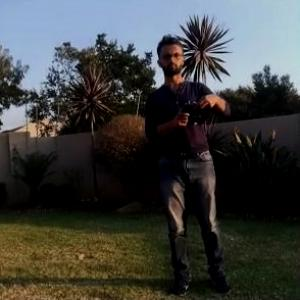follow: (141, 28, 238, 299)
